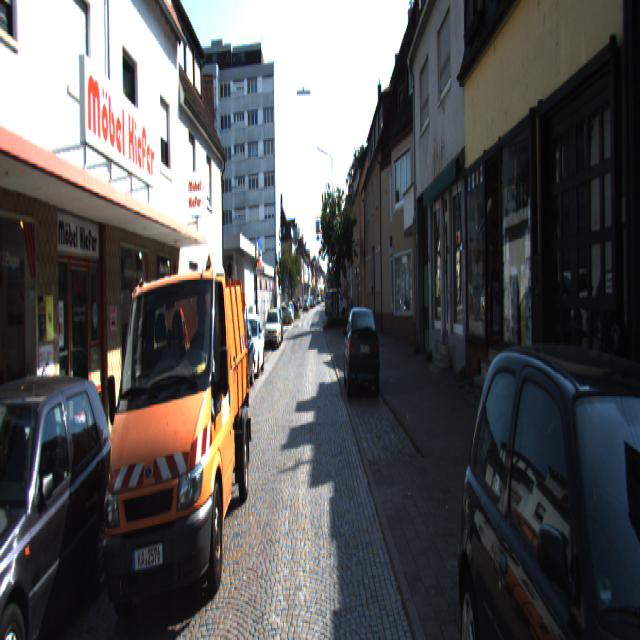Car: (456, 330, 640, 638), (0, 360, 121, 638), (156, 343, 224, 463), (342, 304, 382, 398), (264, 307, 282, 348)
DontCare: (282, 293, 314, 324), (324, 288, 338, 318)
Van: (92, 237, 254, 638)
